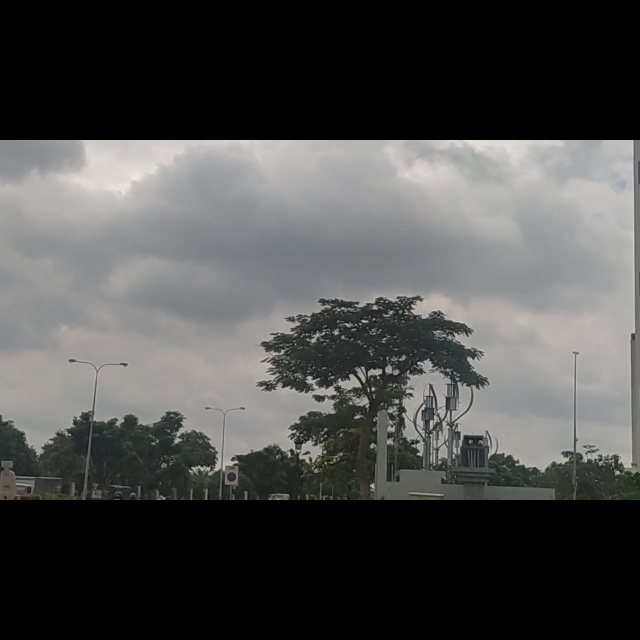bien_cam: (227, 589, 237, 609)
